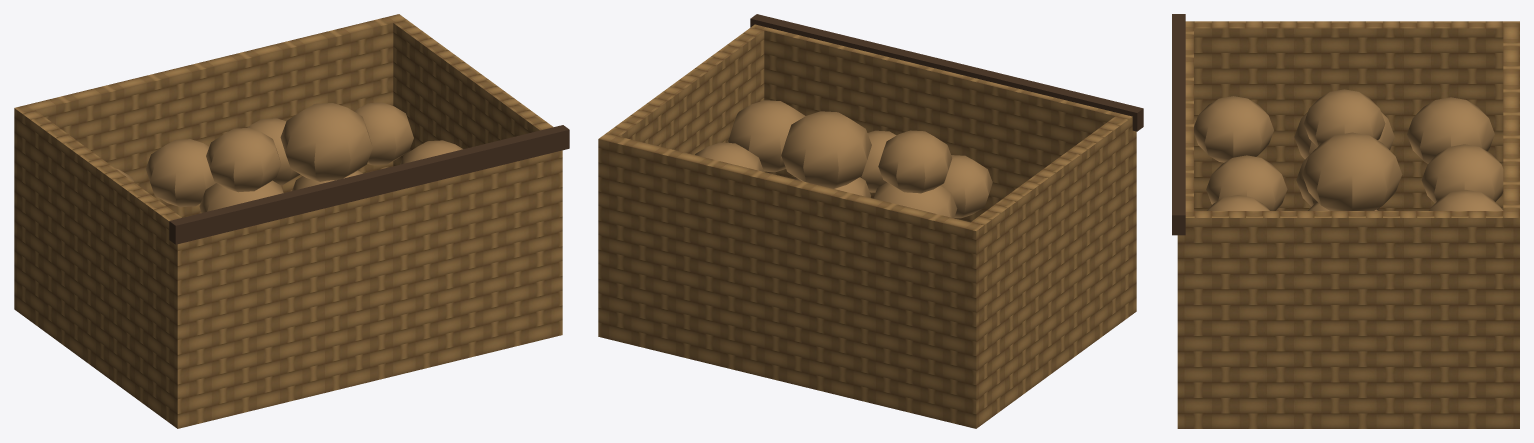
Rendered from tpl_dispensa_cesto_patate.glb.
3 renders of one model, left to right at view 1: azimuth 30°, elevation 25°; view 2: azimuth 150°, elevation 25°; view 3: azimuth 270°, elevation 25°, orthographic. The views are drawn at different scales.
Visible parts, largest first — view 1: tpl_dispensa_cesto_patate; view 2: tpl_dispensa_cesto_patate; view 3: tpl_dispensa_cesto_patate.
Part boxes in pixels (box(x1,y1,x2,y2)): tpl_dispensa_cesto_patate: box(14, 14, 569, 428); tpl_dispensa_cesto_patate: box(598, 14, 1143, 428); tpl_dispensa_cesto_patate: box(1172, 14, 1519, 428).
Bounding box in the file's own units: 0.348 × 0.174 × 0.254.
3 materials, 1 textured.
